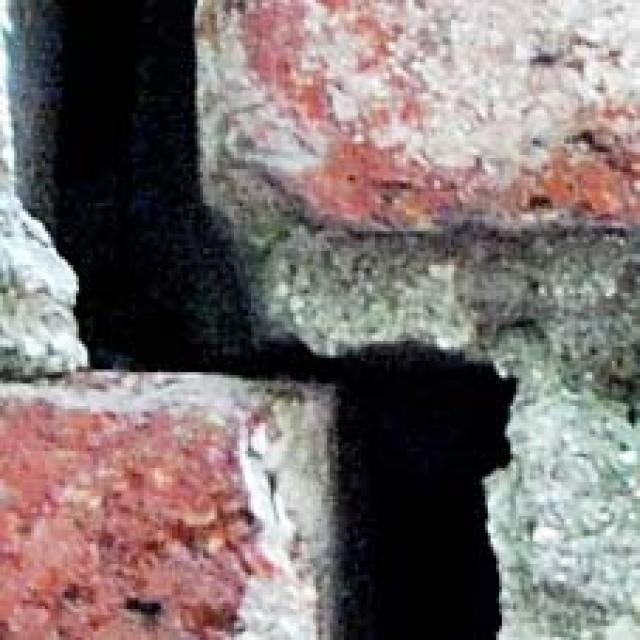Crack: (0, 0, 595, 637)
